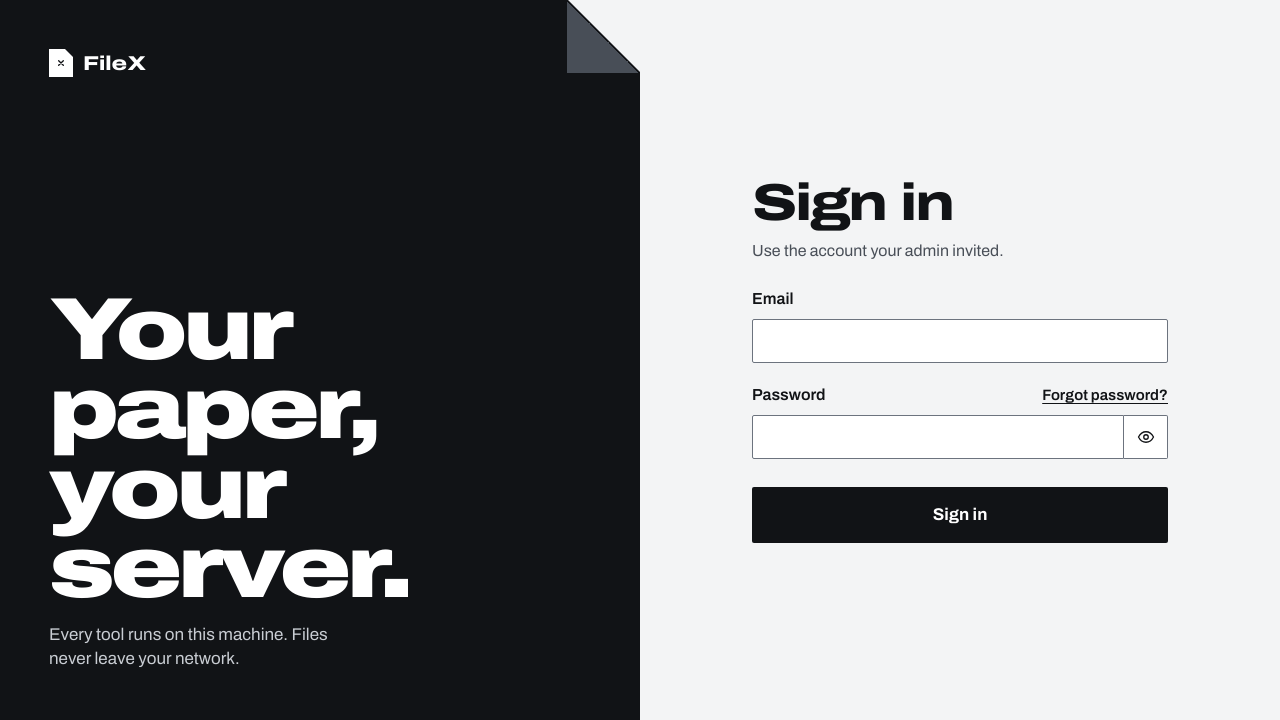
Scenario: Keel sign-in › maps wrong credentials and an unreachable Keel to plain messages
Type "ana@home.lan" into the field labelled "Email". click: (960,341)
box: [752,319,1168,363]
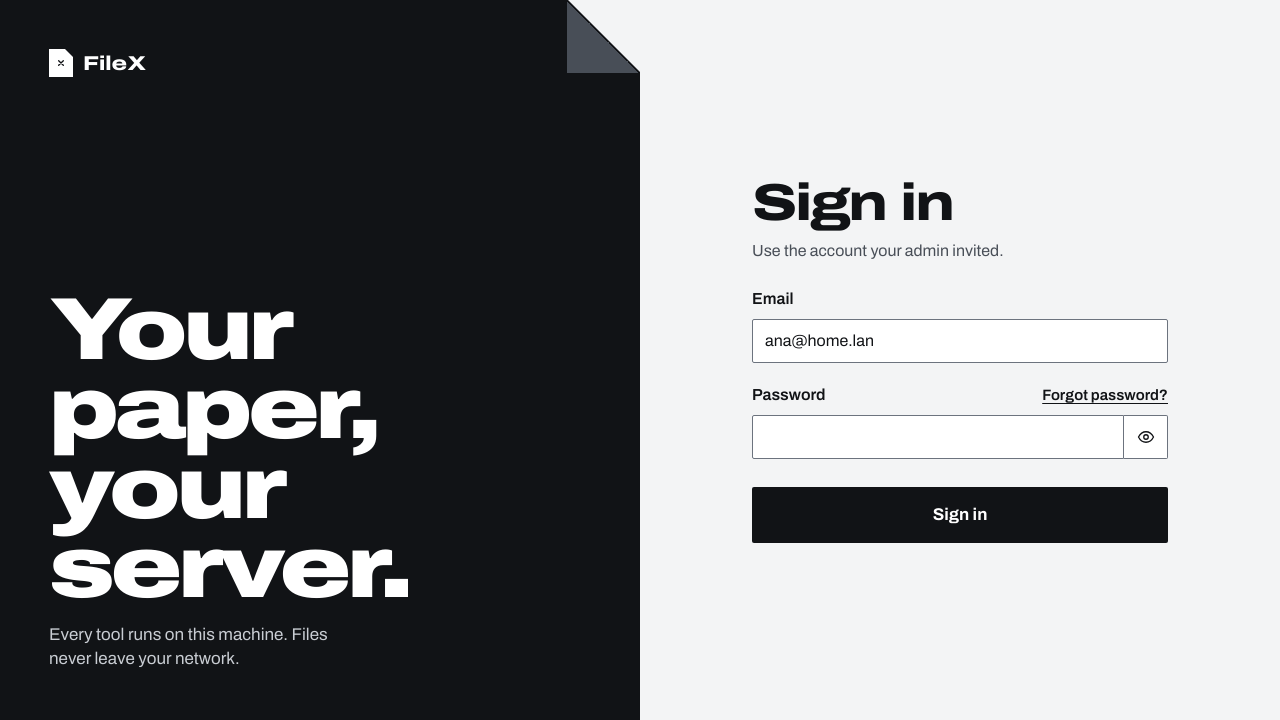
Type "nope" into the password field labelled "Password". click: (938,437)
box: [752,415,1124,459]
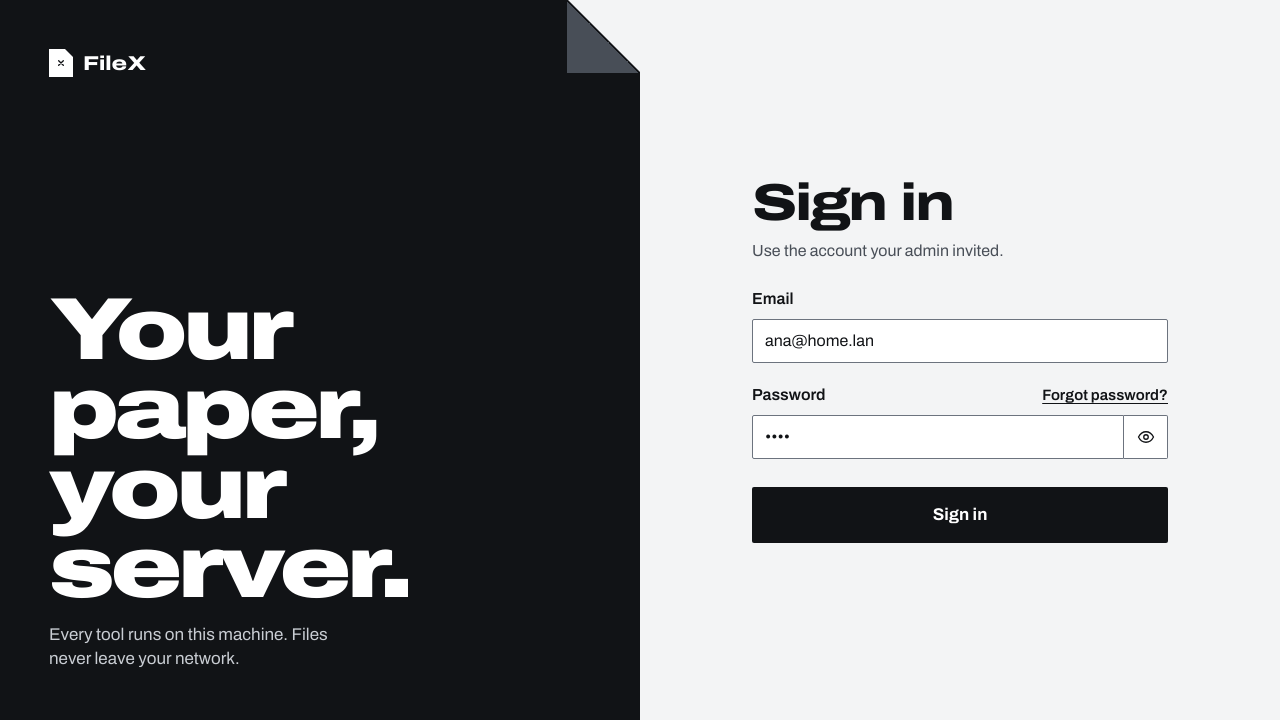
Click the button "Sign in". click: (960,515)
box: [752,487,1168,543]
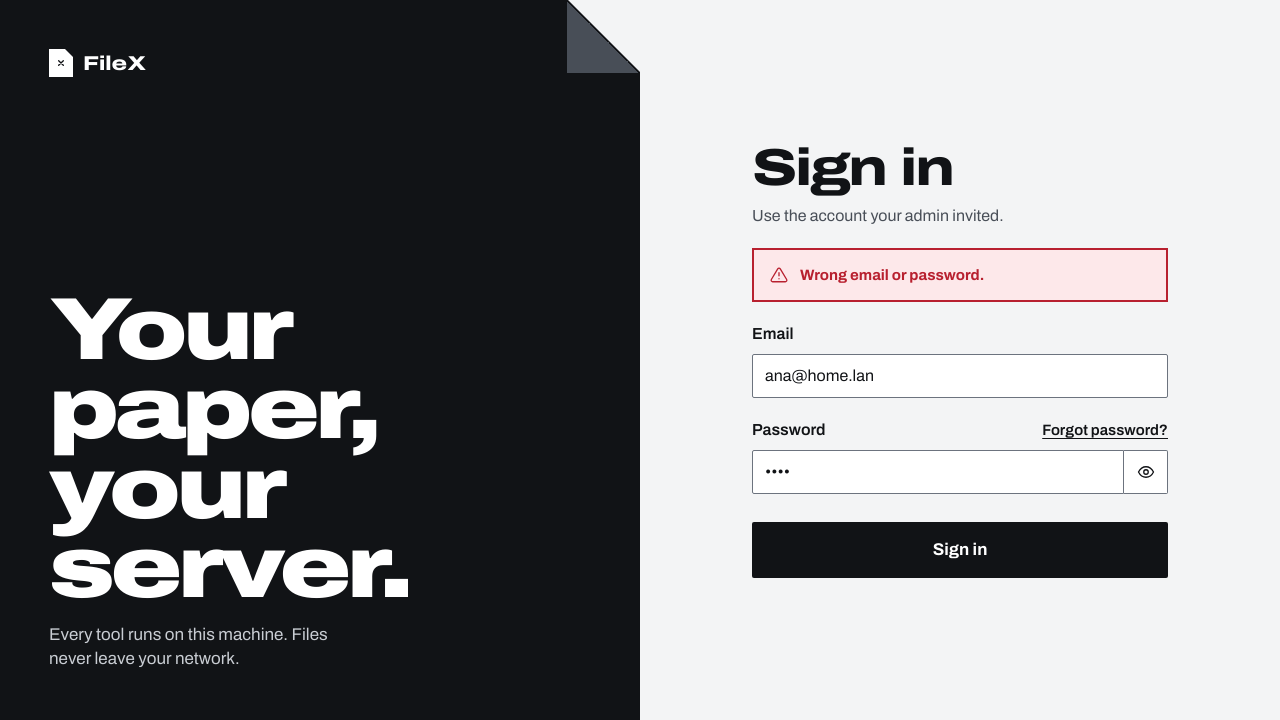
Now the message reads "Wrong email or password.", box [800,267,984,283]
Click the button "Sign in". click: (960,550)
box: [752,522,1168,578]
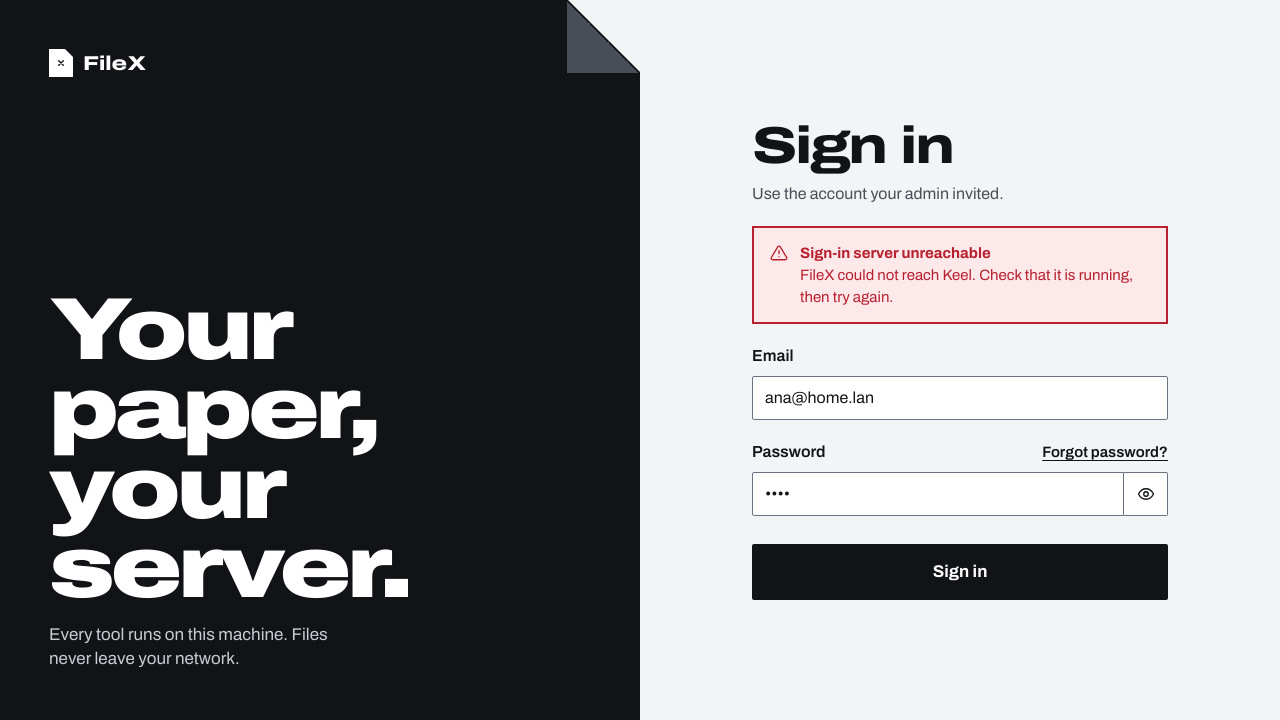
Now the message shows "Sign-in server unreachable", box [800,245,991,261]
